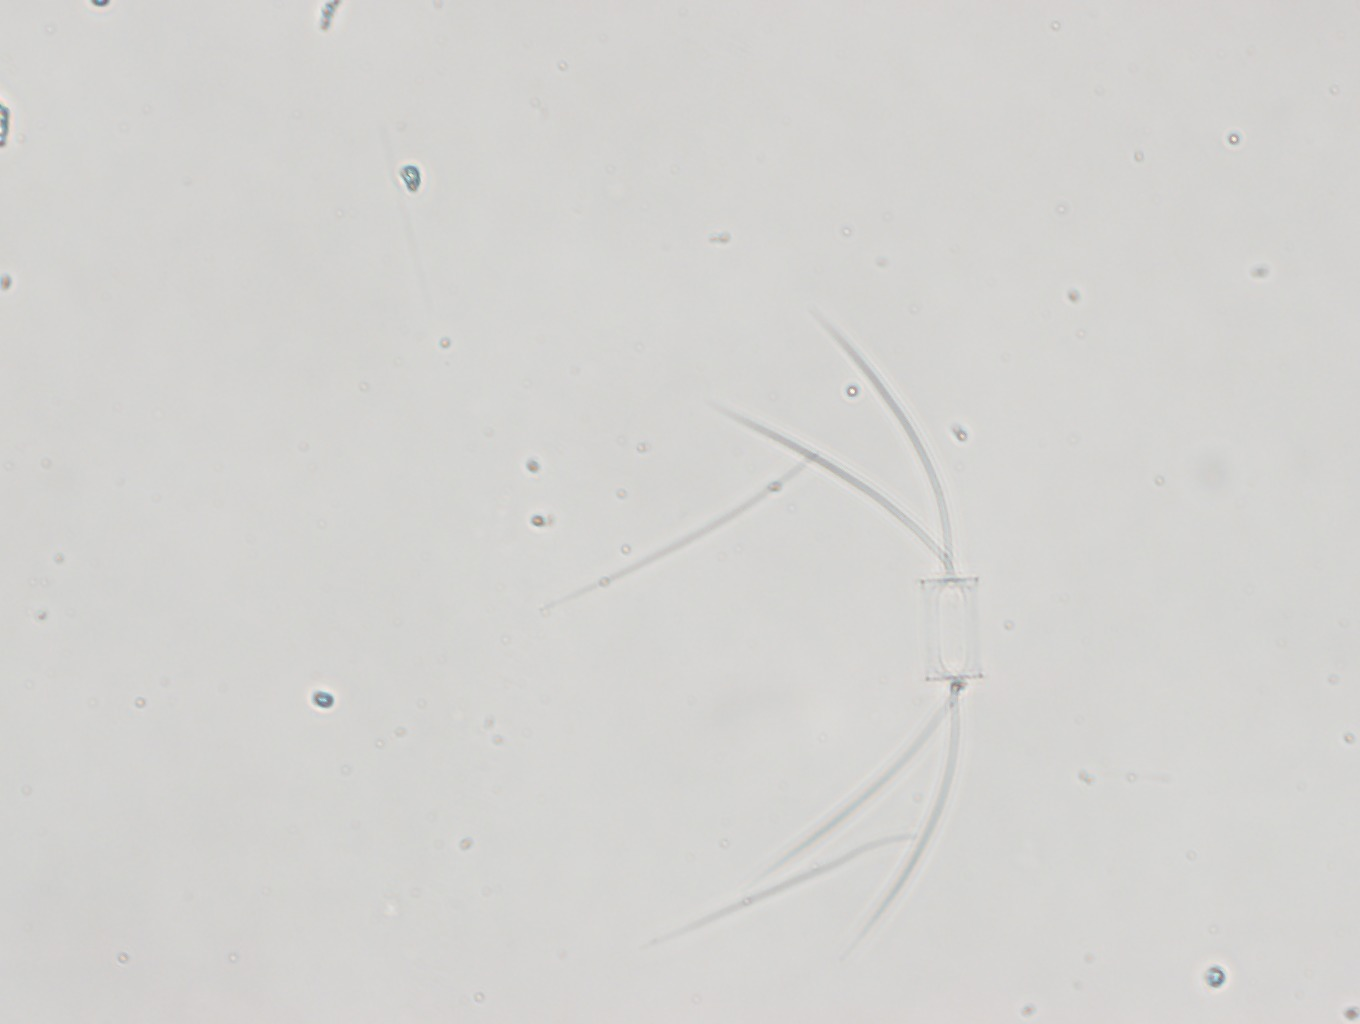chaetoceros: (714, 302, 980, 962)
